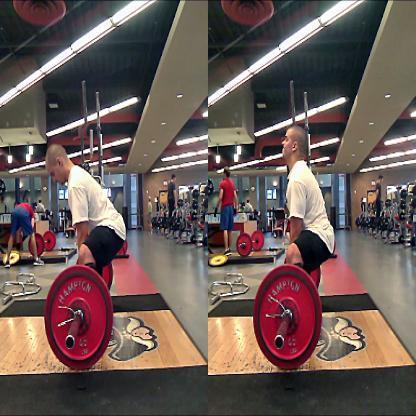barbell: (42, 250, 116, 372), (252, 255, 323, 370)
